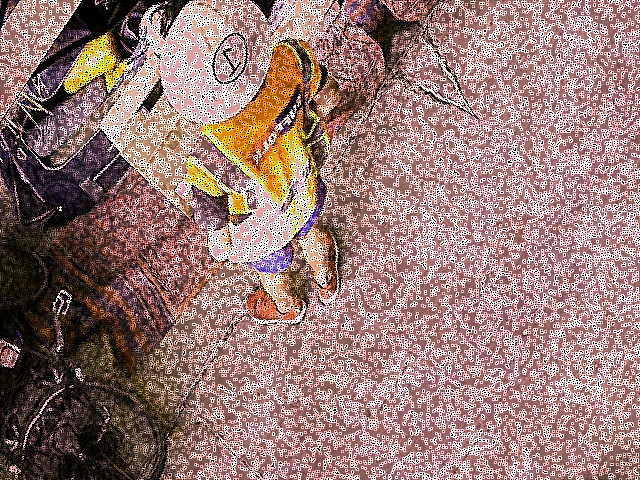one: (202, 26, 256, 93)
